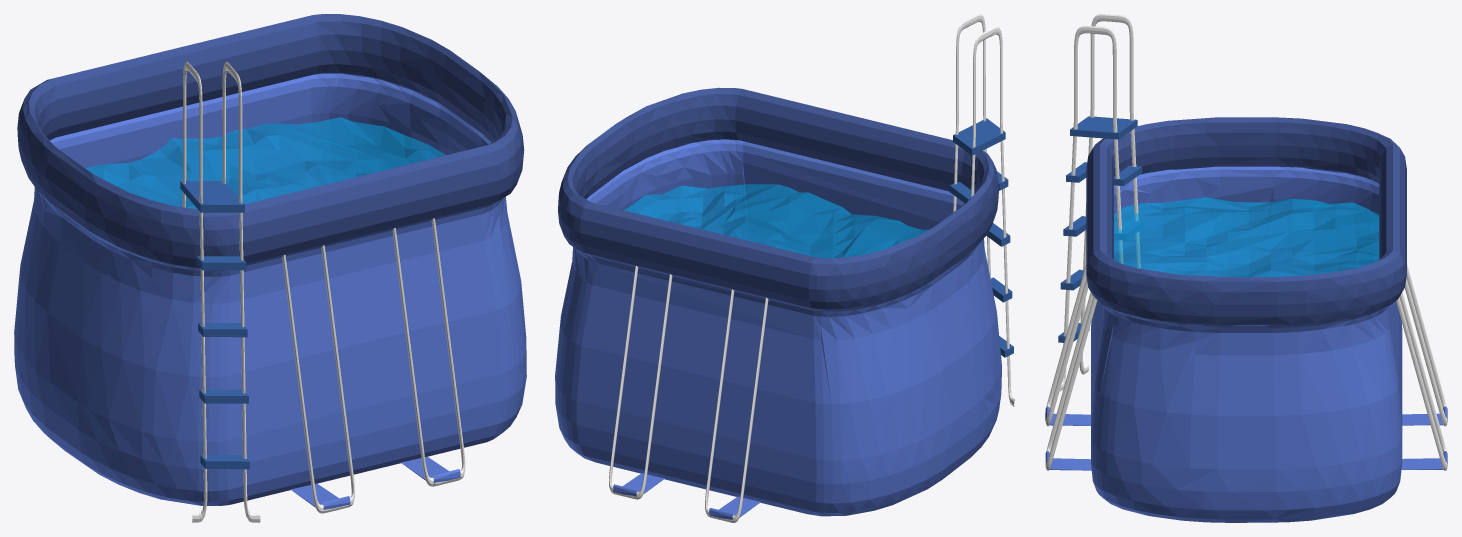
File: sh-scopia-rectangle-swimming-pool.glb
The picture shows the model from 3 angles, left to right: view 1: azimuth 30°, elevation 25°; view 2: azimuth 150°, elevation 25°; view 3: azimuth 270°, elevation 25°; orthographic projection. The views are drawn at different scales.
Visible parts, largest first — view 1: Cylinder, Torus.002, water_Plane.001, BezierCurve.004_Mesh.004; view 2: Cylinder, Torus.002, water_Plane.001, BezierCurve.004_Mesh.004; view 3: Cylinder, Torus.002, water_Plane.001, BezierCurve.004_Mesh.004.
Boxes of the visible parts, box(x1,y1,x2,y2) form: Cylinder: box(14, 73, 526, 511); Torus.002: box(17, 14, 524, 268); water_Plane.001: box(39, 117, 445, 291); BezierCurve.004_Mesh.004: box(180, 61, 465, 522); Cylinder: box(555, 139, 1001, 521); Torus.002: box(558, 87, 998, 309); water_Plane.001: box(624, 184, 984, 258); BezierCurve.004_Mesh.004: box(609, 14, 1015, 522); Cylinder: box(1045, 166, 1447, 522); Torus.002: box(1086, 117, 1406, 326); water_Plane.001: box(1114, 197, 1379, 276); BezierCurve.004_Mesh.004: box(1045, 14, 1447, 470).
Size of the model in its own units: 1 by 0.9999 by 0.9996.
